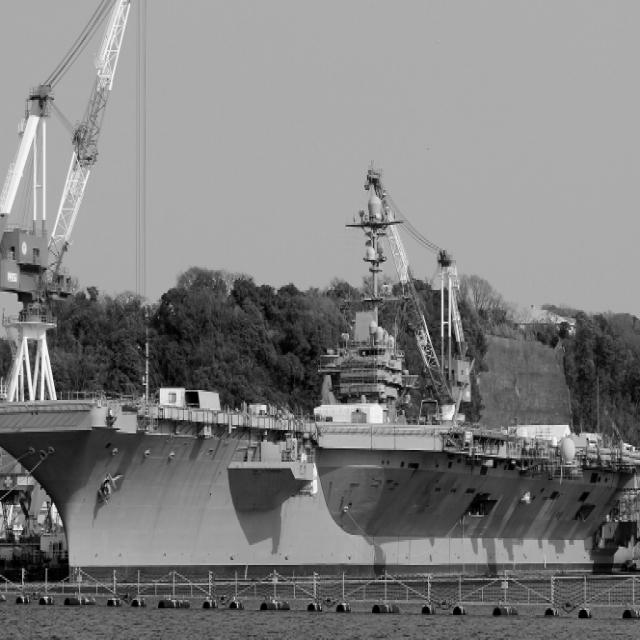Portanaves: (1, 304, 640, 603)
